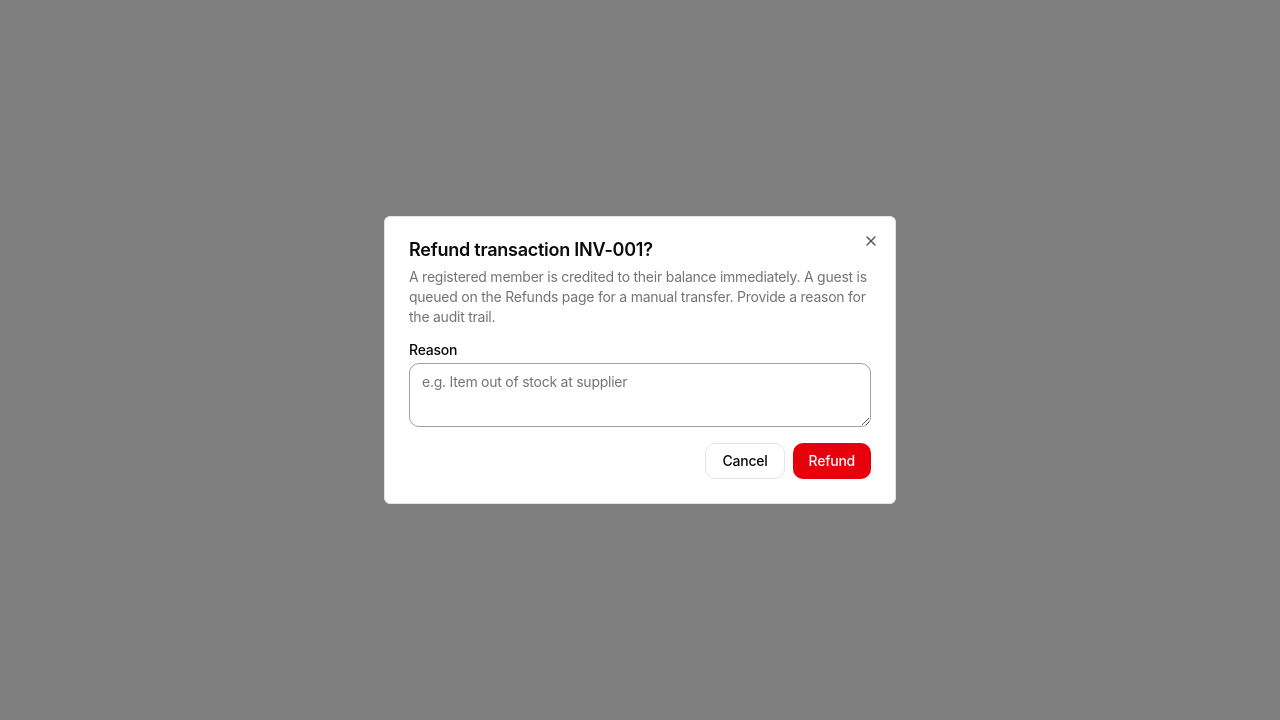
RefundDialog › blocks submit and shows an error when the reason is empty
The width and height of the screenshot is (1280, 720).
Click the button "Refund" at (832, 461), box [792,443,871,479]
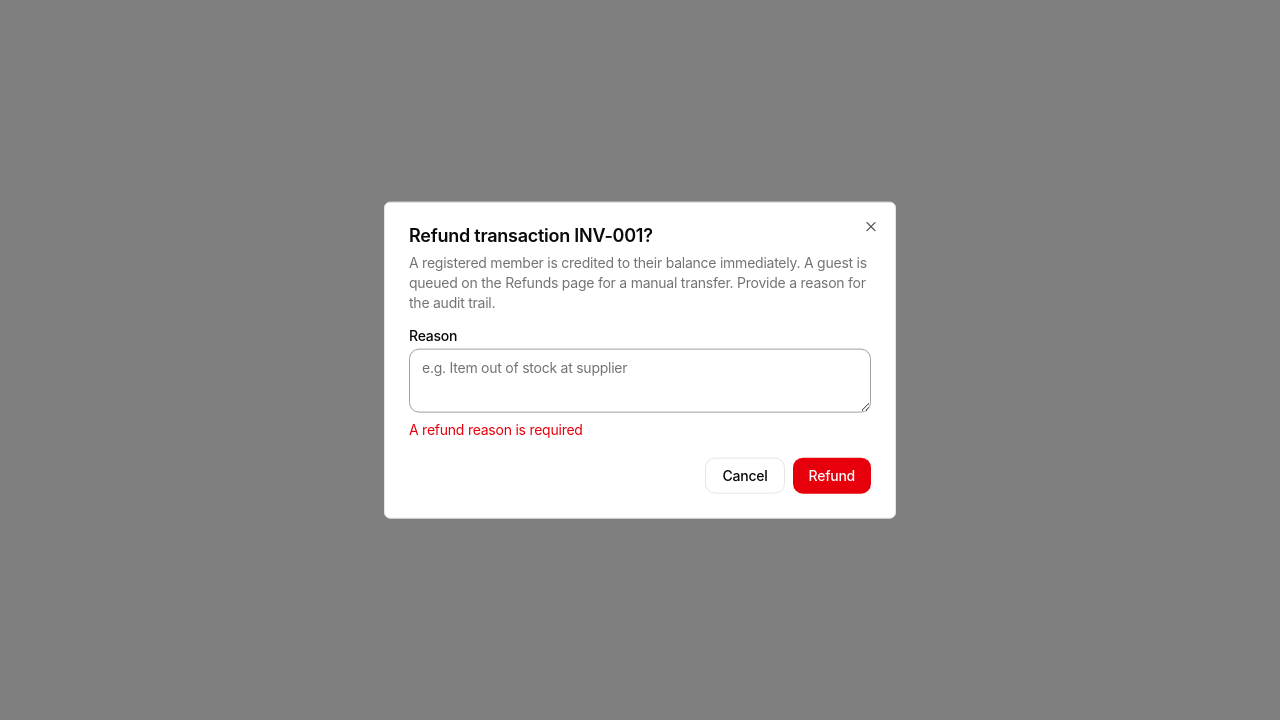
Expected: the text "A refund reason is required" is shown, [409,421,583,438]
